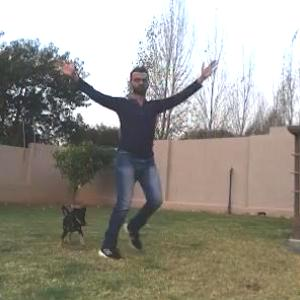takeoff: (44, 65, 188, 262)
